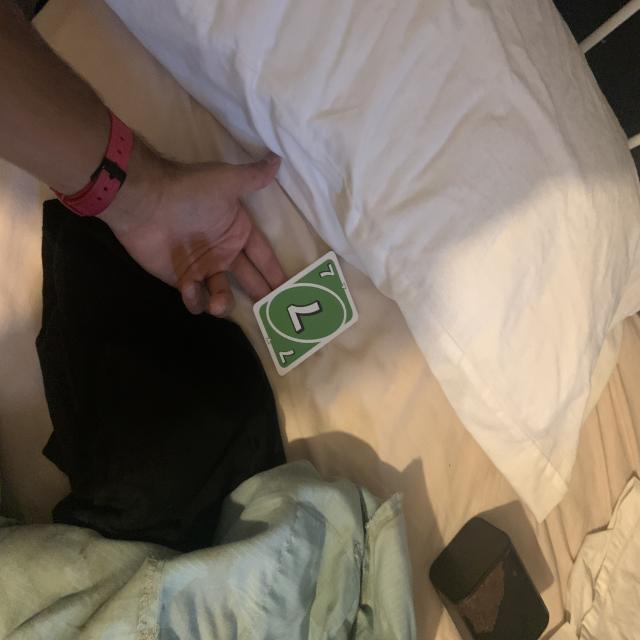lgreen-7: (316, 259, 340, 282)
